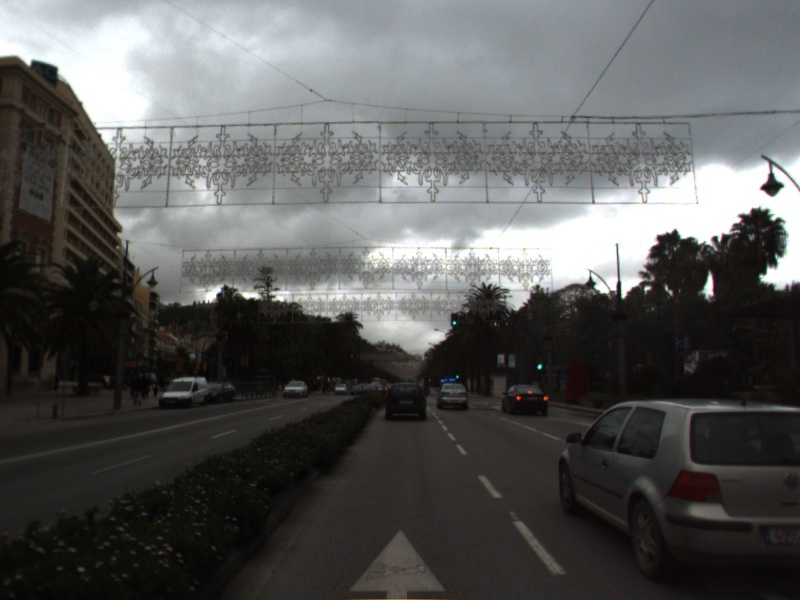STRAIGHT: (345, 524, 452, 600)
